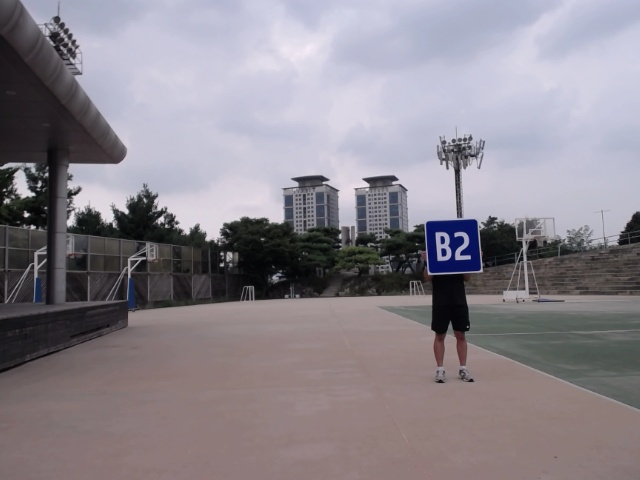delivery_b2: (424, 217, 484, 275)
